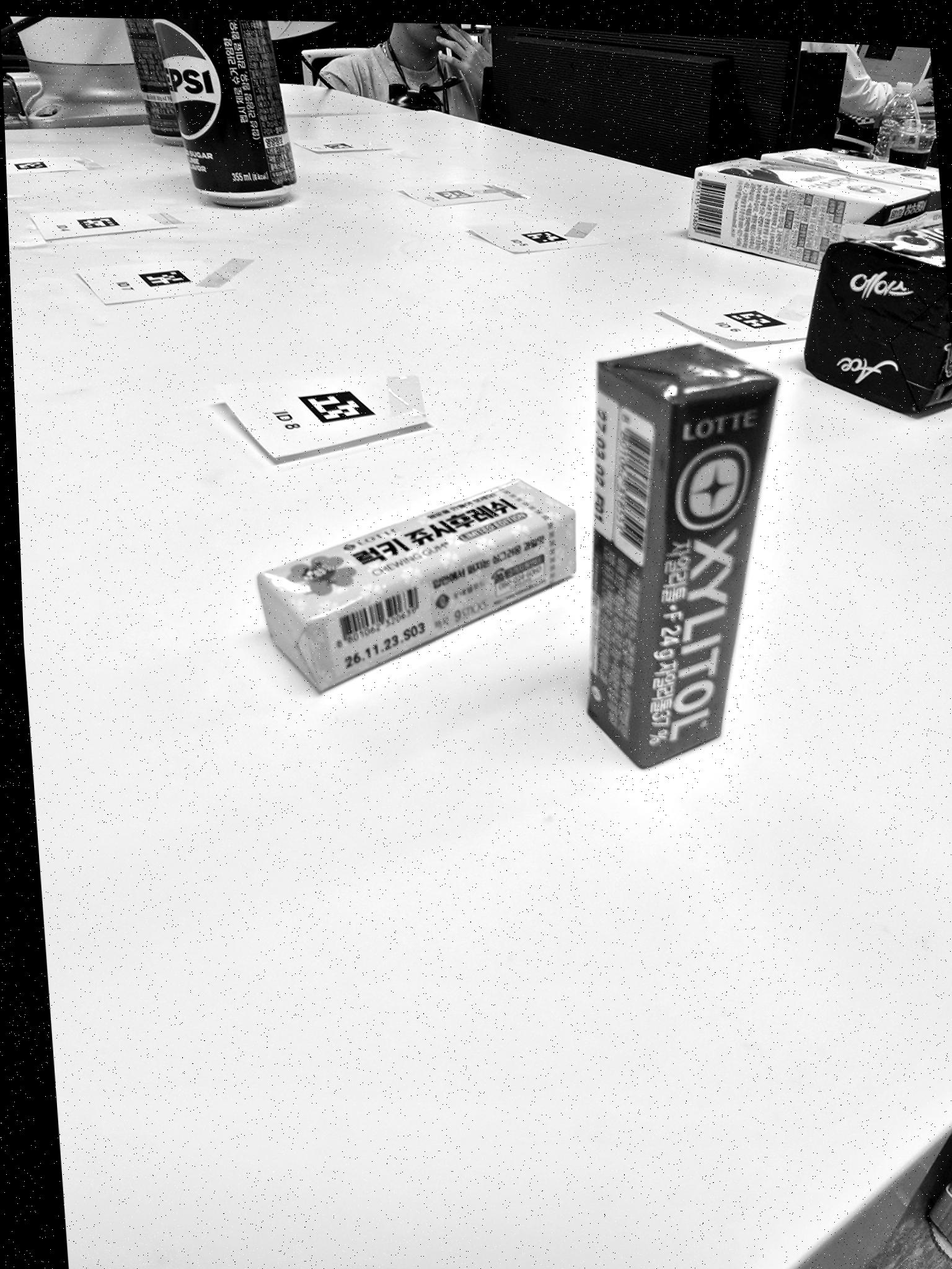gum_green: (588, 345, 778, 767)
gum_yellow: (258, 480, 575, 691)
